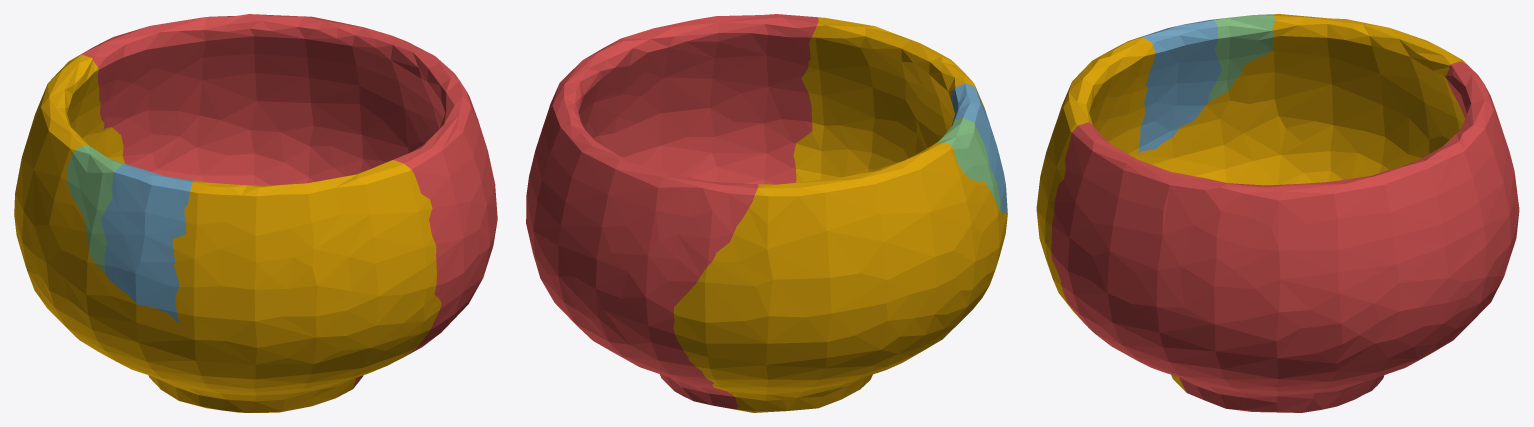
File: fractured_47_4pcs.glb
The picture shows the model from 3 angles, left to right: view 1: azimuth 30°, elevation 25°; view 2: azimuth 150°, elevation 25°; view 3: azimuth 270°, elevation 25°; orthographic projection.
Parts seen in each view (by area): view 1: piece_0.obj, piece_1.obj, piece_2.obj, piece_3.obj; view 2: piece_0.obj, piece_1.obj, piece_3.obj, piece_2.obj; view 3: piece_1.obj, piece_0.obj, piece_2.obj, piece_3.obj.
Boxes of the visible parts, <box> form: piece_0.obj: <box>14,54,441,412</box>; piece_1.obj: <box>80,14,497,389</box>; piece_2.obj: <box>101,164,193,322</box>; piece_3.obj: <box>67,145,126,272</box>; piece_0.obj: <box>673,17,1007,412</box>; piece_1.obj: <box>526,14,818,409</box>; piece_3.obj: <box>937,117,1001,210</box>; piece_2.obj: <box>950,83,1007,213</box>; piece_1.obj: <box>1051,61,1519,412</box>; piece_0.obj: <box>1036,14,1467,391</box>; piece_2.obj: <box>1137,19,1221,154</box>; piece_3.obj: <box>1207,14,1274,103</box>.
Size of the model in its own units: 0.9997 by 0.6135 by 1.
